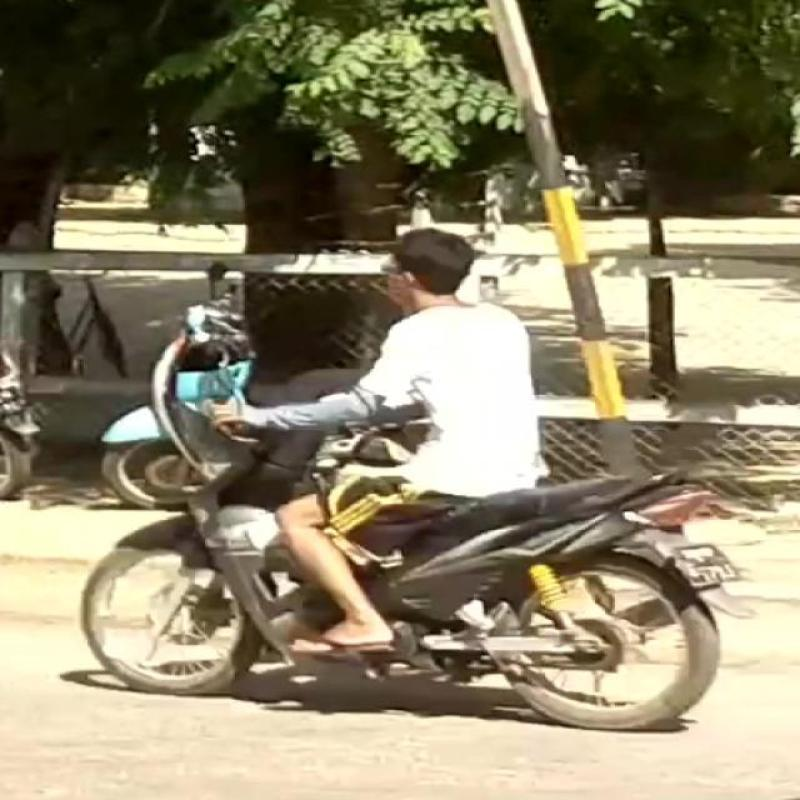nohelmet: (378, 224, 510, 318)
